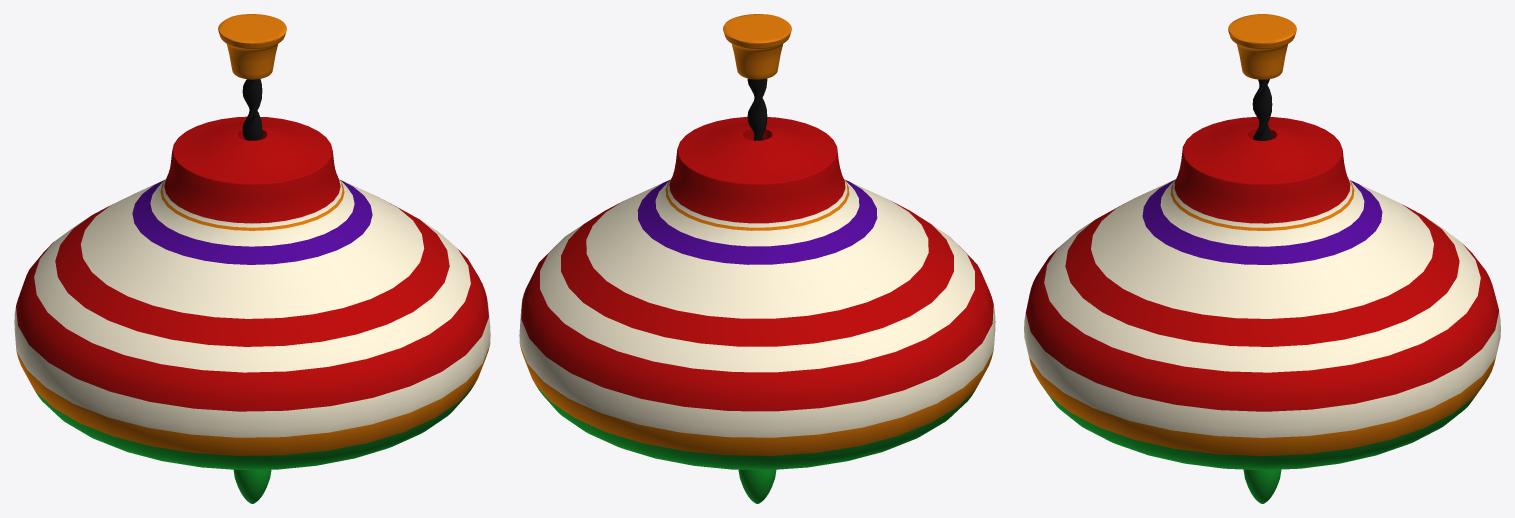
Rendered from юла.fbx.
3 renders of one model, left to right at view 1: azimuth 30°, elevation 25°; view 2: azimuth 150°, elevation 25°; view 3: azimuth 270°, elevation 25°, orthographic.
Parts seen in each view (by area): view 1: Cube_1; view 2: Cube_1; view 3: Cube_1.
Boxes of the visible parts, bbox=[...] form: Cube_1: bbox=[14, 14, 490, 503]; Cube_1: bbox=[519, 14, 995, 503]; Cube_1: bbox=[1024, 14, 1500, 503].
Size of the model in its own units: 722 by 794 by 722.
